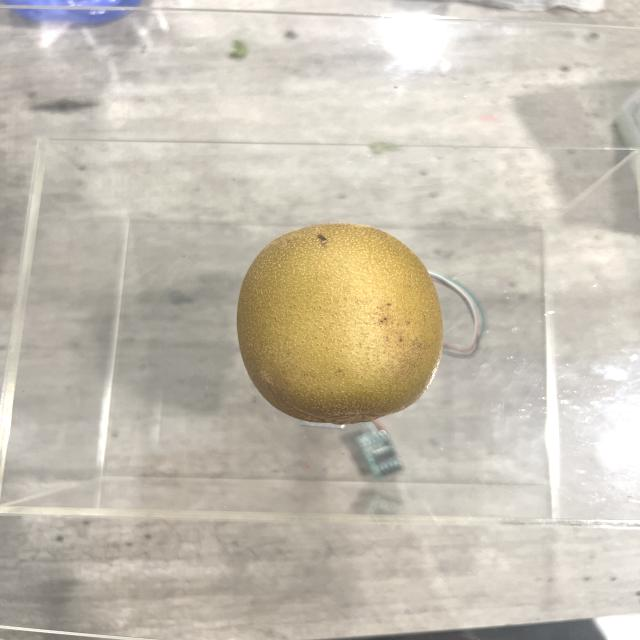kiwi: (236, 223, 443, 427)
